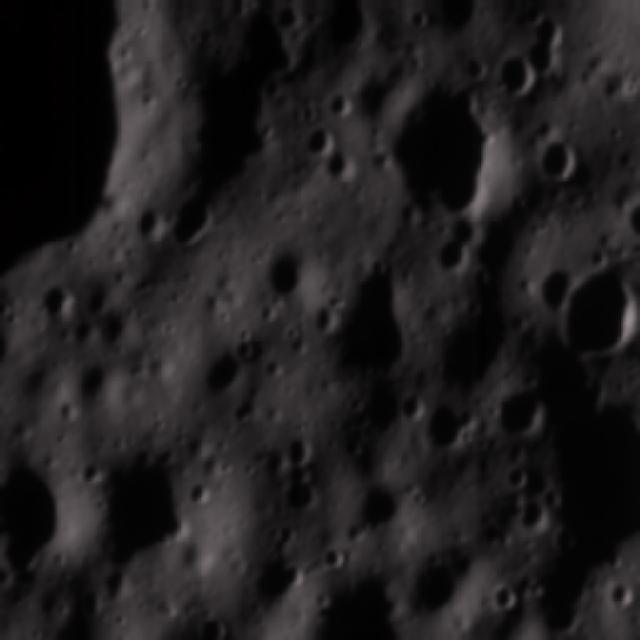crater: (101, 435, 210, 588), (5, 419, 100, 583), (384, 86, 496, 208), (320, 255, 414, 378), (541, 262, 637, 370), (406, 537, 476, 629), (152, 175, 222, 260), (492, 374, 559, 440), (514, 1, 569, 81), (423, 208, 480, 280), (362, 470, 415, 533), (416, 392, 475, 442), (530, 130, 581, 184), (284, 463, 334, 514), (511, 489, 554, 540), (295, 110, 339, 159), (326, 71, 365, 120), (387, 3, 431, 46), (497, 52, 540, 94), (323, 141, 363, 181), (500, 448, 538, 490), (390, 383, 424, 422)
